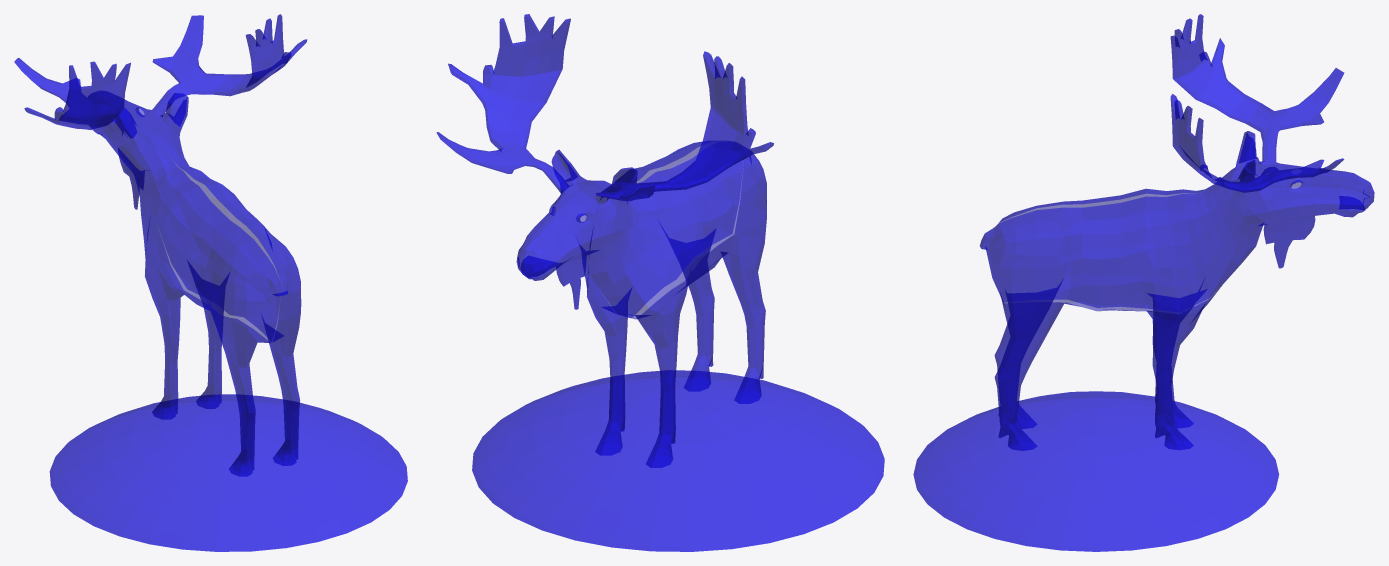
The model's file is mooz.glb.
3 views of the same model, side by side, from view 1: azimuth 30°, elevation 25°; view 2: azimuth 150°, elevation 25°; view 3: azimuth 270°, elevation 25° (orthographic). The views are drawn at different scales.
Parts seen in each view (by area): view 1: Mound, Low Poly Moose.001; view 2: Mound, Low Poly Moose.001; view 3: Low Poly Moose.001, Mound.
Part boxes in pixels (x1,y1,x2,y2): Mound: [49, 394, 407, 551]; Low Poly Moose.001: [14, 14, 307, 476]; Mound: [472, 370, 884, 551]; Low Poly Moose.001: [436, 14, 773, 467]; Low Poly Moose.001: [980, 14, 1374, 450]; Mound: [913, 391, 1279, 551].
Size of the model in its own units: 9.49 by 11.77 by 11.97.
